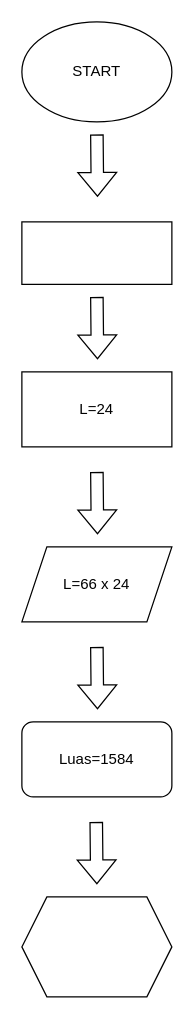
The diagram is 194 pixels wide and 1019 high, and some of its shapes have lost their labels. The shapes that lost their labels are listed below. From the top down, each one's centre as x and y in pixels, then its label:
pixel 96 252: P=66
pixel 96 946: FINISH
